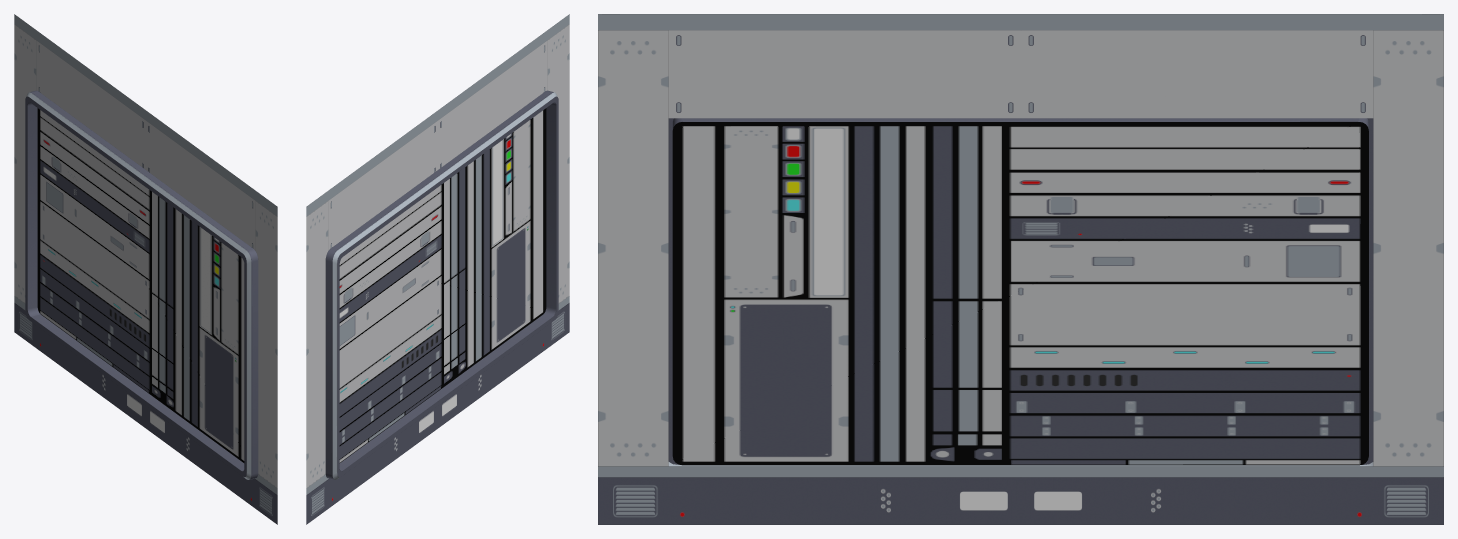
Rendered from Interior_Wall_Tv_01.FBX.
3 renders of one model, left to right at view 1: azimuth 30°, elevation 25°; view 2: azimuth 150°, elevation 25°; view 3: azimuth 270°, elevation 25°, orthographic. The views are drawn at different scales.
Visible parts, largest first — view 1: Screen, Interior_Wall_Tv_01; view 2: Screen, Interior_Wall_Tv_01; view 3: Screen, Interior_Wall_Tv_01.
Boxes of the visible parts, x1,y1,x2,y2 form: Screen: (37, 108, 244, 462); Interior_Wall_Tv_01: (14, 14, 277, 524); Screen: (339, 108, 546, 462); Interior_Wall_Tv_01: (306, 14, 569, 524); Screen: (672, 122, 1368, 465); Interior_Wall_Tv_01: (598, 14, 1443, 524).
Size of the model in its own units: 0.1315 by 4 by 6.
